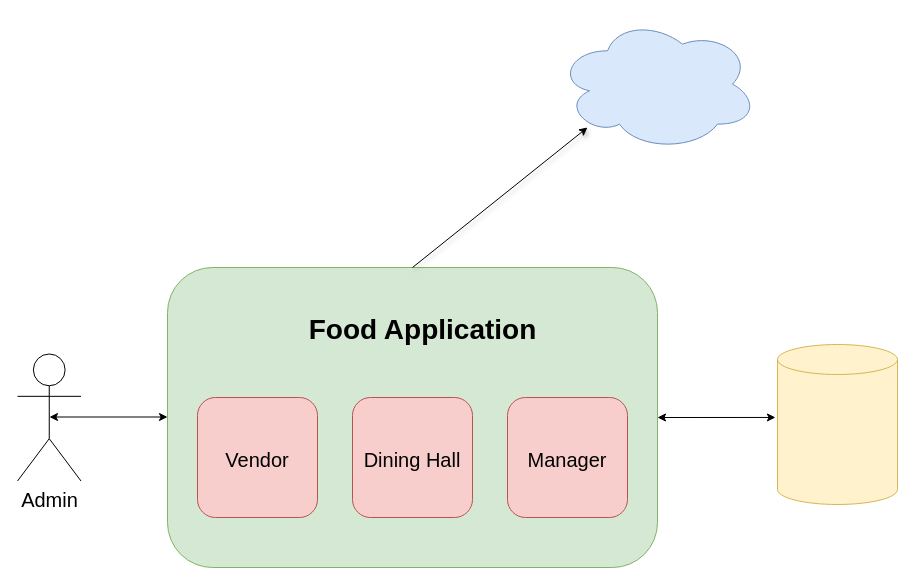
This 915x585 diagram has some shape labels left out. Here are the shapes that lost their labels. From the top down, the centre of each, then its label:
At (x=657, y=83): "Hosted on Cloud".
At (x=837, y=424): "SQL Database".
